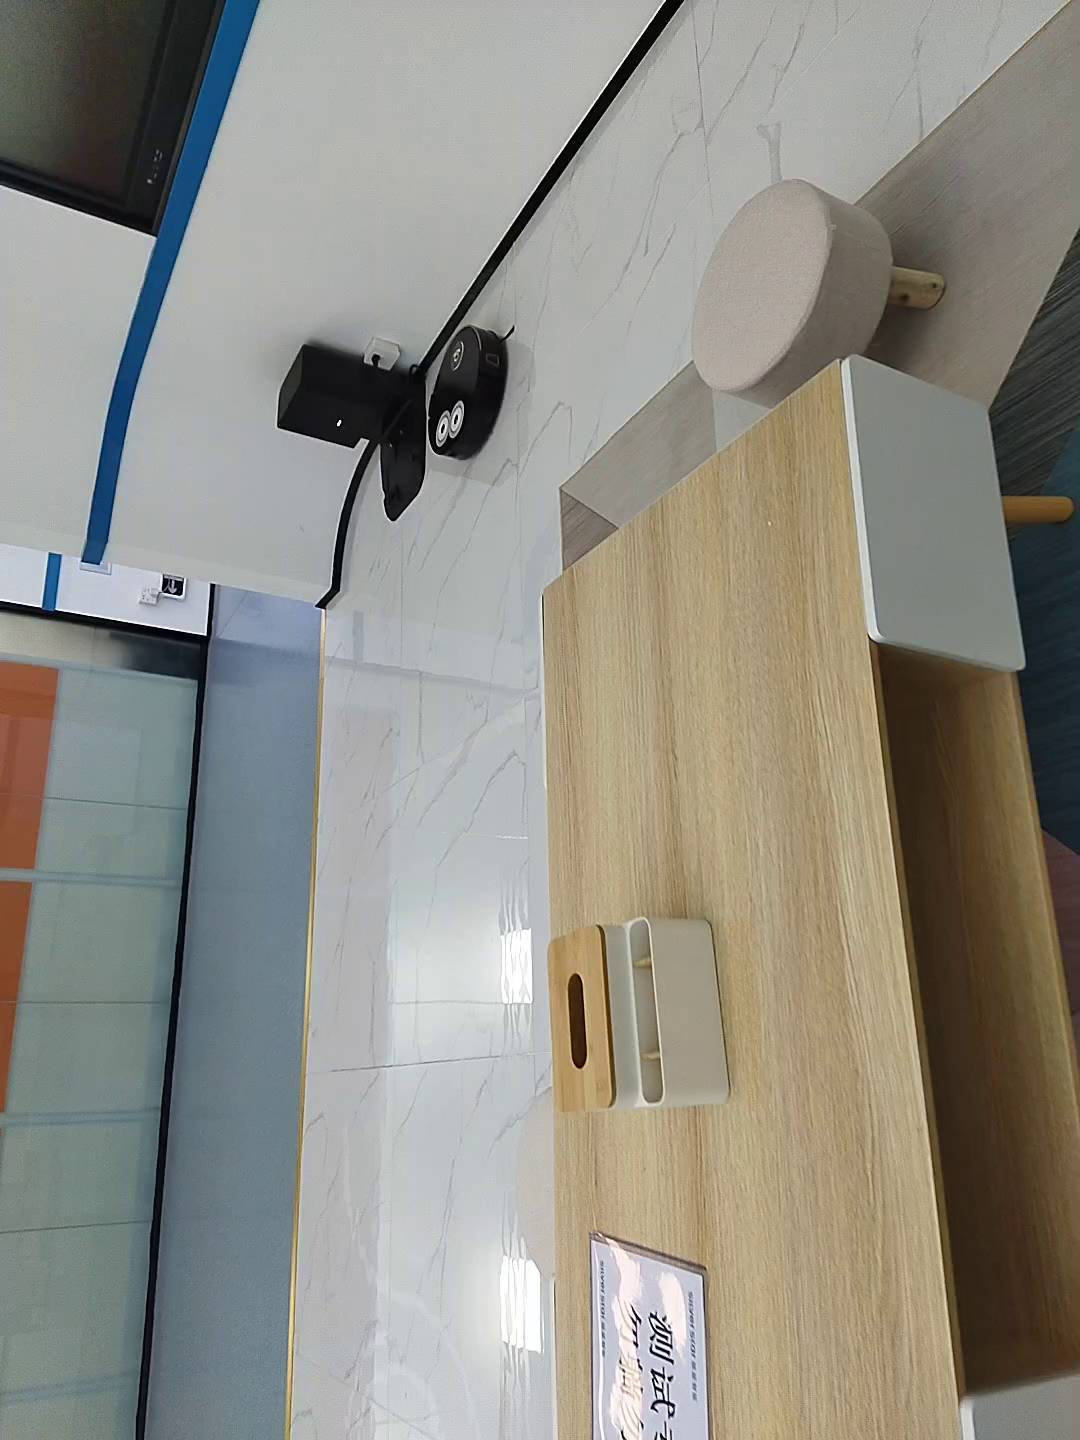dust collecting barrel: (275, 340, 427, 523)
